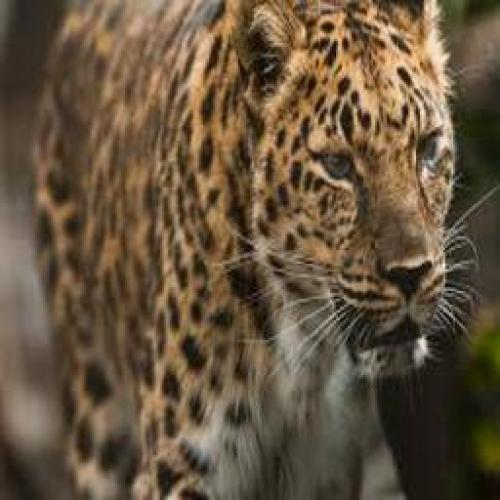amur_leopard-endangered: (30, 0, 460, 435)
